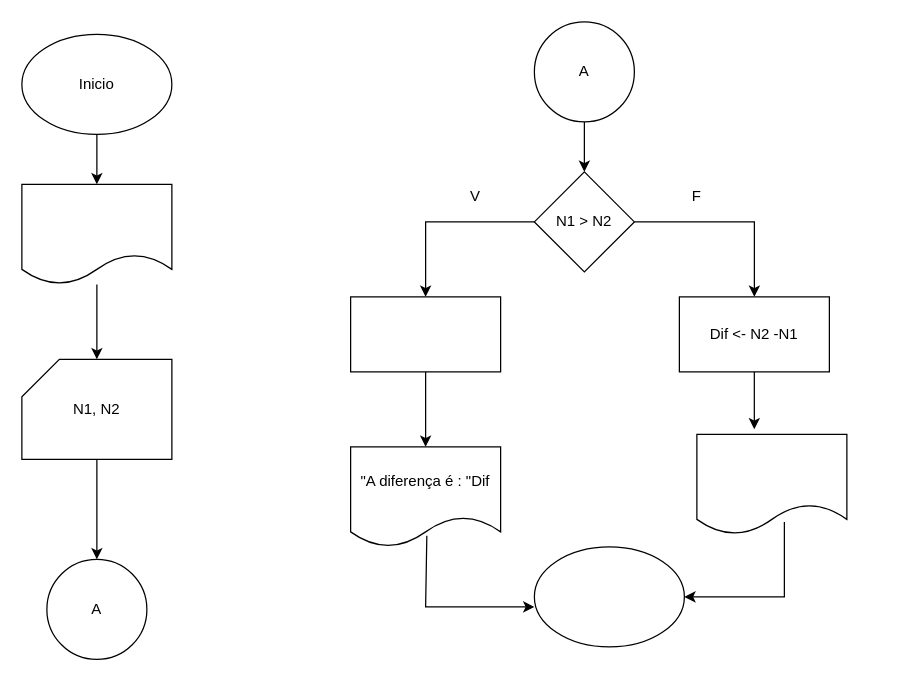
The diagram is 919 pixels wide and 681 high, and some of its shapes have lost their labels. The shapes that lost their labels are listed below. From the top down, each one's centre as x and y in pixels, then its label:
pixel 96 233: "Informe dois números diferentes"
pixel 425 334: Dif <- N1 - N2
pixel 771 483: "A diferença é : " Dif
pixel 608 596: Fim
